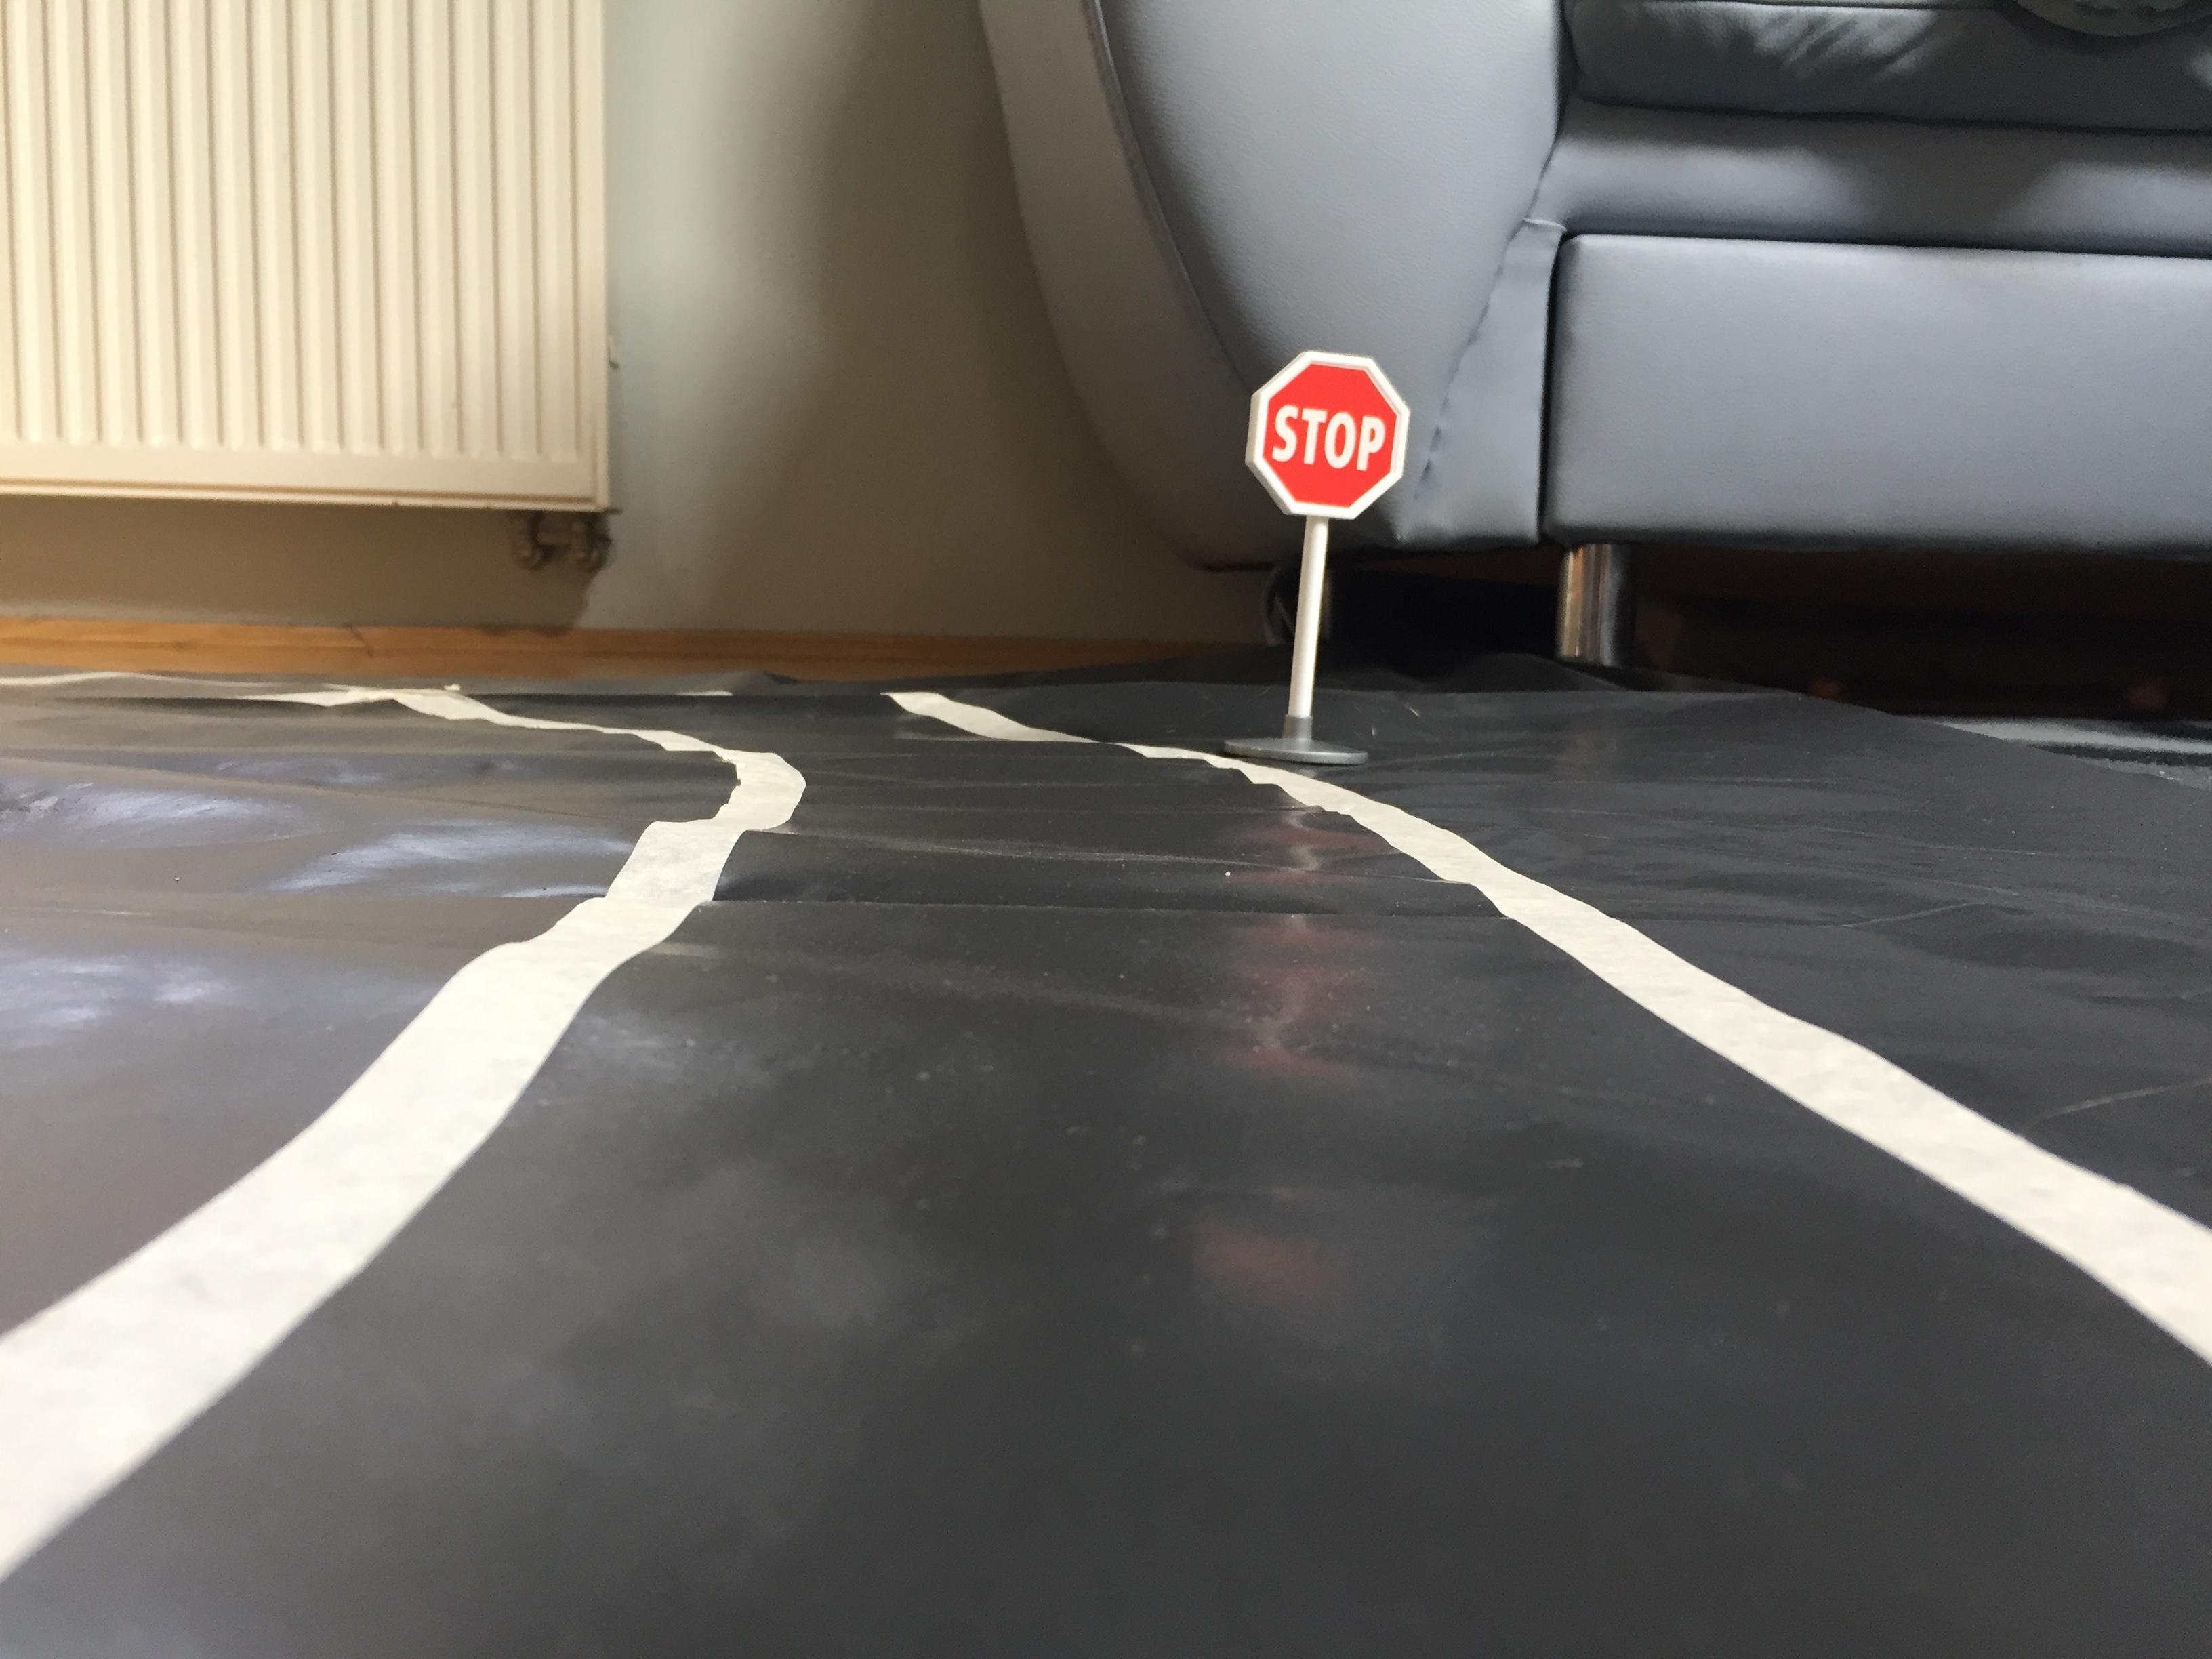stop: (1231, 336, 1426, 533)
